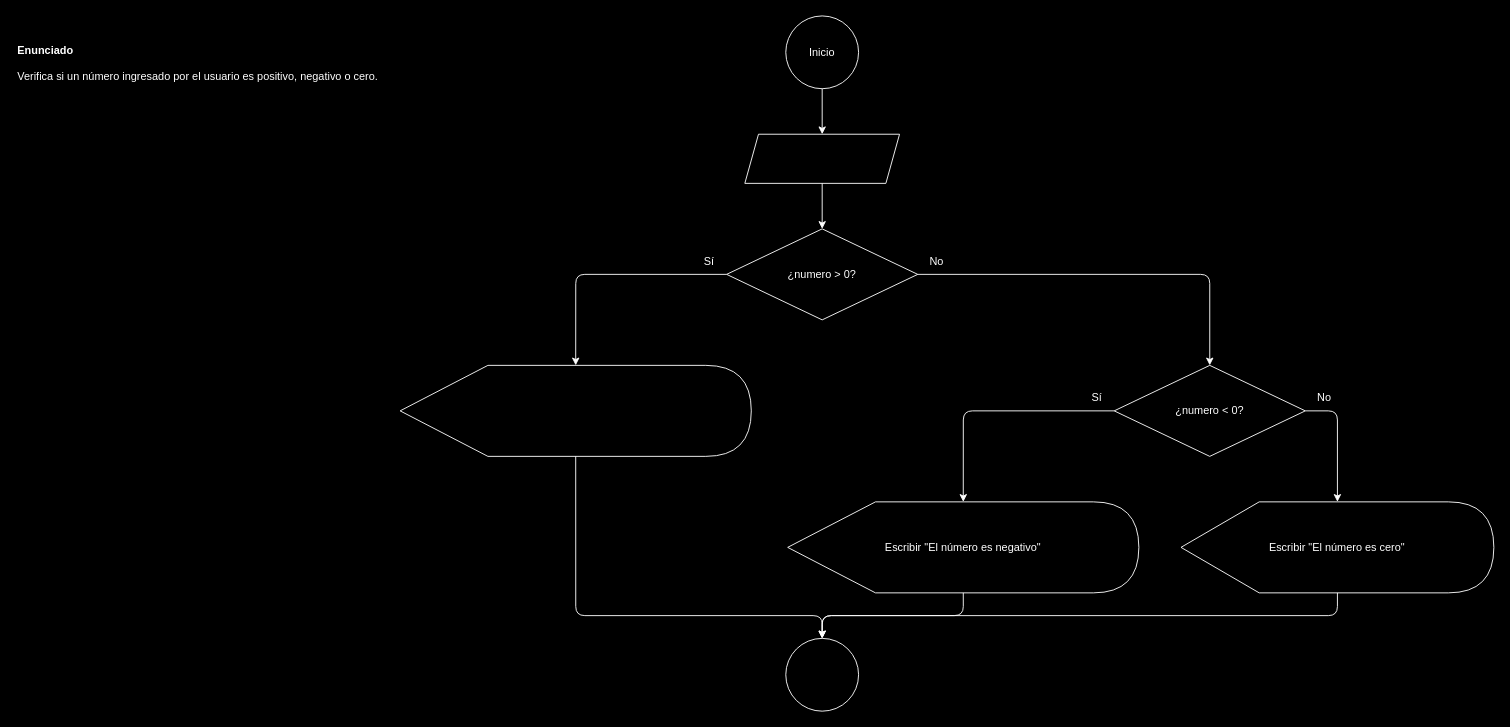
Some shapes in this 1510 by 727 pixel diagram are drawn without their labels. Here are the shapes that lost their labels. From the top down, the centre of each, then its label:
the point at 822,158: Leer numero
the point at 575,410: Escribir "El número es positivo"
the point at 822,674: Fin
